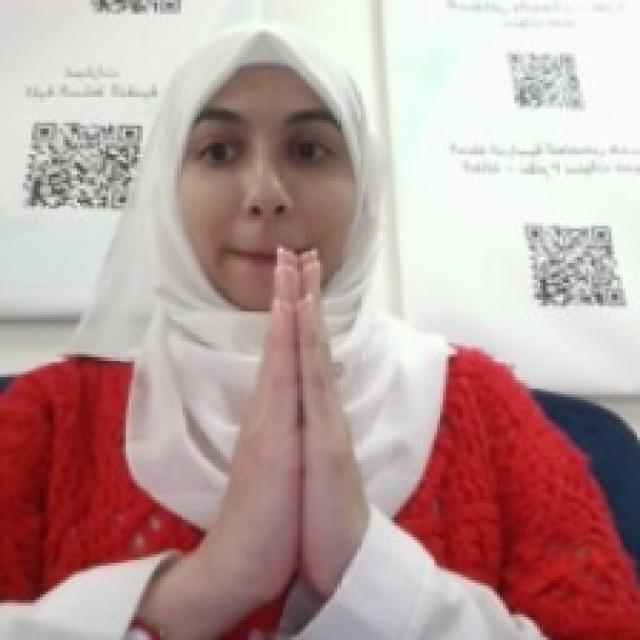sorry: (212, 240, 372, 600)
